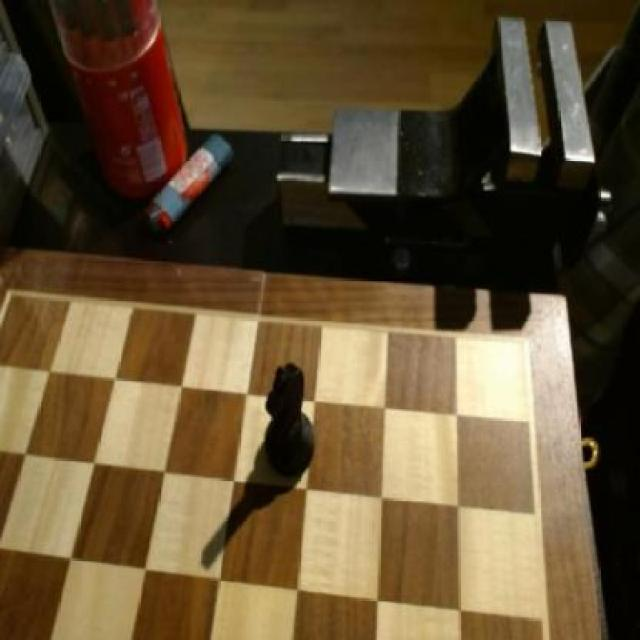black-king: (258, 357, 322, 476)
